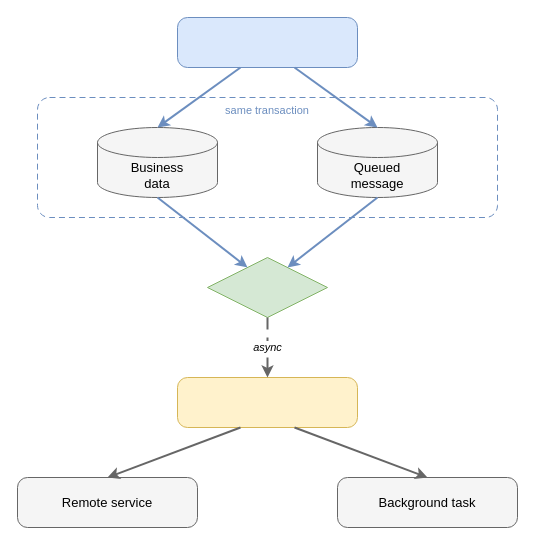
Image size: 535x545. Some labels were removed from this diagram. Here are the shapes that lost their labels. From the top down, the centre of each, then its label:
At (267,42): "Request handler".
At (267,287): "COMMIT".
At (267,402): "Background runner".
